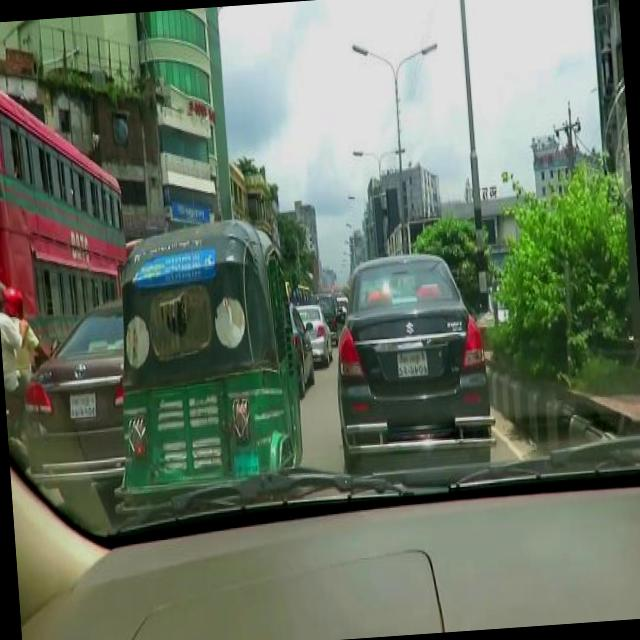bus: (0, 65, 134, 356)
car: (324, 238, 500, 482), (10, 293, 134, 510), (296, 300, 334, 373)
motorcycle: (96, 208, 308, 513)
